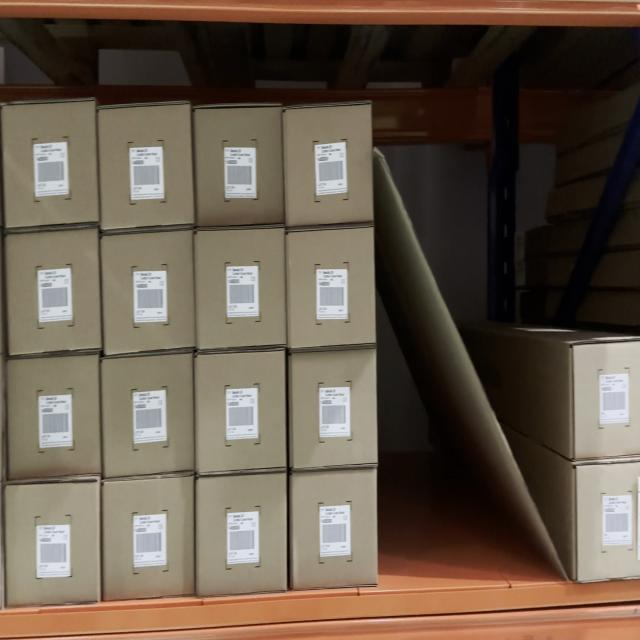box: (5, 228, 103, 354), (2, 99, 100, 225), (102, 348, 194, 480), (5, 484, 104, 606), (101, 102, 194, 227), (194, 99, 284, 227), (9, 356, 101, 480), (101, 226, 190, 352), (286, 227, 375, 348), (197, 350, 286, 471), (287, 350, 378, 468), (103, 479, 194, 597), (286, 104, 373, 226), (197, 474, 289, 587), (288, 469, 378, 584), (196, 231, 284, 345), (572, 344, 640, 464), (578, 458, 638, 585)
